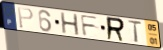6: (37, 9, 53, 33)
F: (79, 14, 100, 37)
H: (60, 12, 81, 37)
P: (17, 6, 35, 30)
R: (106, 16, 126, 43)
T: (126, 20, 144, 44)
